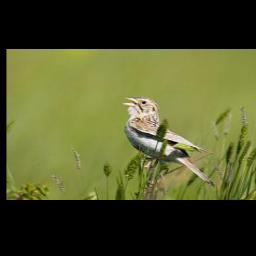Sparrow: (120, 96, 214, 186)
